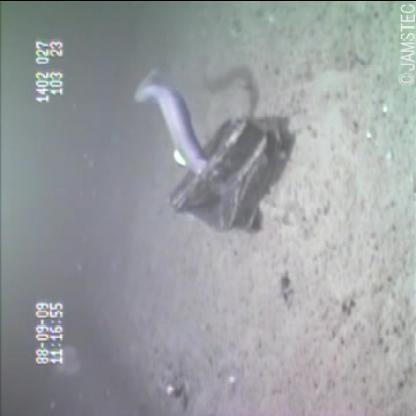Bio: (130, 65, 218, 179)
Rác: (164, 108, 297, 236)
